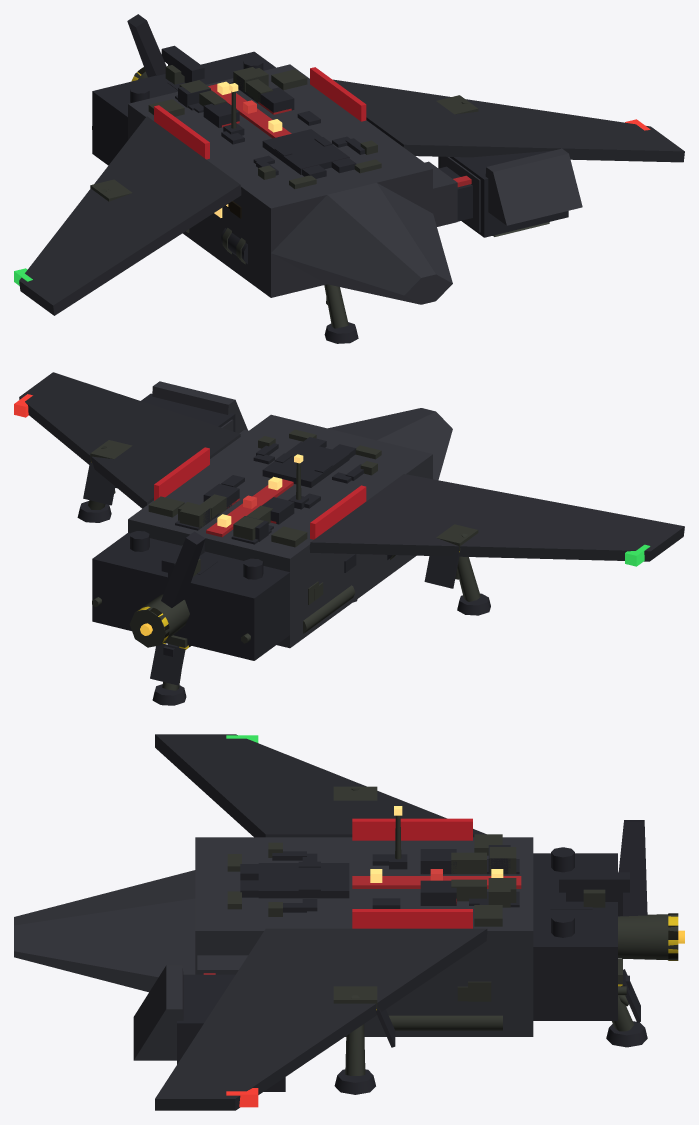
The model's file is runner-s.glb.
The picture shows the model from 3 angles, top to bottom: view 1: azimuth 30°, elevation 25°; view 2: azimuth 150°, elevation 25°; view 3: azimuth 270°, elevation 25°; orthographic projection. The views are drawn at different scales.
Visible parts, largest first — view 1: hullMain, wingLeft, wingRight, hullForebody, bridgeNoseCap, aftPlug, hullNose, noseSensor, bridgeGusset, stabilizerFinL, synDecalR, synDecalL (+10 smaller); view 2: wingLeft, hullMain, aftPlug, wingRight, hullForebody, gearBayDoor (×3), noseSensor, engineHousing, bridgeNoseCap, stabilizerFinL, synDecalR, synDecalL (+10 smaller); view 3: wingRight, hullMain, hullForebody, wingLeft, aftPlug, bridgeNoseCap, noseSensor, synDecalL, hullNose, engineHousing, synDecalR, stabilizerFinL (+12 smaller).
Boxes of the visible parts, x1,y1,x2,y2 form: hullMain: (128, 64, 432, 297); wingLeft: (19, 116, 241, 315); wingRight: (333, 79, 684, 162); hullForebody: (271, 182, 452, 304); bridgeNoseCap: (485, 148, 582, 225); aftPlug: (92, 51, 275, 165); hullNose: (438, 150, 568, 237); noseSensor: (262, 129, 349, 174); bridgeGusset: (425, 161, 457, 226); stabilizerFinL: (127, 14, 166, 77); synDecalR: (310, 67, 366, 121); synDecalL: (154, 105, 209, 159); wingLeft: (309, 474, 684, 561); hullMain: (128, 414, 432, 648); aftPlug: (92, 533, 289, 660); wingRight: (19, 372, 240, 508); hullForebody: (328, 408, 452, 479); gearBayDoor (×3): (83, 462, 459, 685); noseSensor: (262, 442, 349, 487); engineHousing: (129, 594, 189, 647); bridgeNoseCap: (152, 381, 247, 433); stabilizerFinL: (161, 531, 205, 607); synDecalR: (154, 447, 209, 500); synDecalL: (310, 485, 366, 539); wingRight: (155, 928, 487, 1110); hullMain: (195, 837, 533, 1036); hullForebody: (14, 870, 195, 992); wingLeft: (155, 734, 486, 837); aftPlug: (533, 853, 617, 1020); bridgeNoseCap: (133, 965, 183, 1060); noseSensor: (258, 863, 349, 898); synDecalL: (352, 818, 472, 840); hullNose: (177, 974, 285, 1091); engineHousing: (618, 914, 678, 960); synDecalR: (352, 909, 472, 928); stabilizerFinL: (618, 820, 647, 916).
Bounding box in the file's own units: 4.29 × 1.33 × 3.33.
